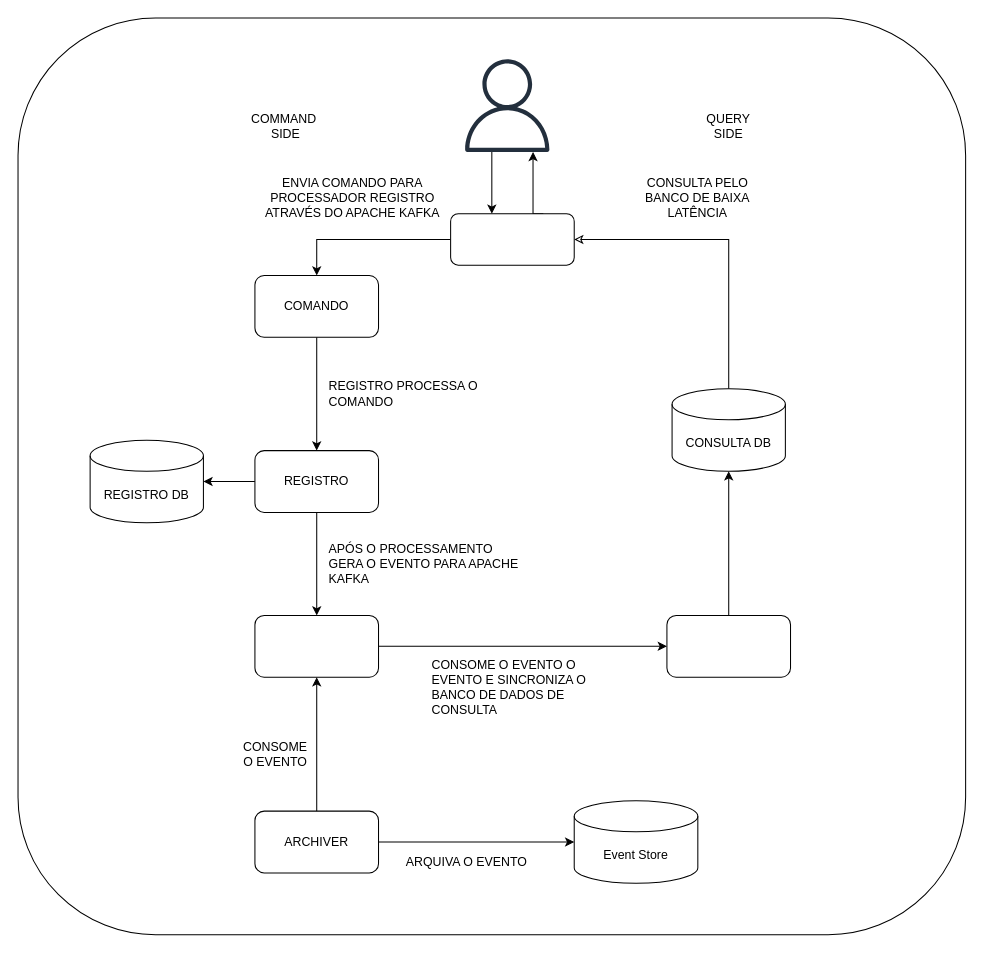
This 984x953 diagram has some shape labels left out. The box of each missing label's shape, as (x1, y1, x2, y2) in pixels:
API: (450, 213, 574, 265)
CONSULTA: (666, 614, 791, 677)
EVENTO KAFKA: (254, 614, 379, 677)
